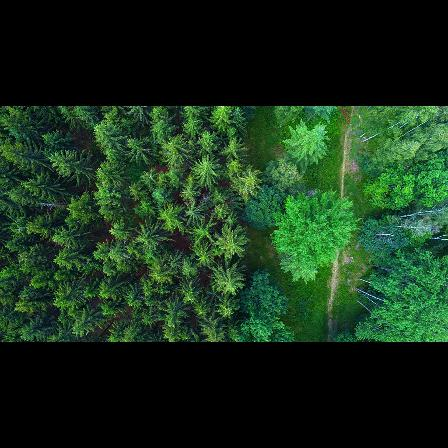Dead: (396, 203, 443, 220), (34, 199, 67, 214)
Sick: (198, 192, 211, 207)
